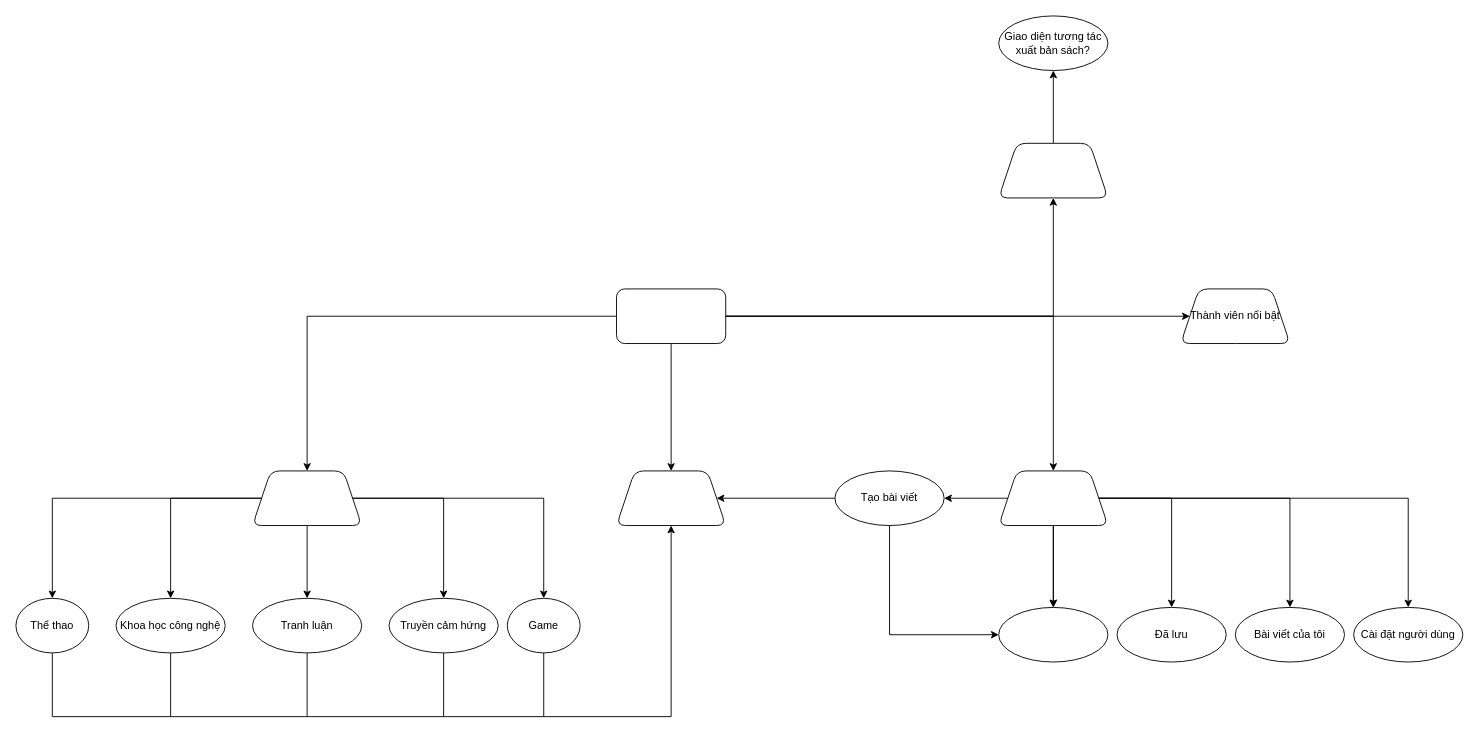
Image size: 1479x740. Some labels were removed from this diagram. Each missing label, with the centre of its shape:
"Bài viết" goes at (671,498).
"Bài viết nháp" goes at (1053,634).
"Danh mục" goes at (307,498).
"Home" goes at (671,316).
"Người dùng" goes at (1053,498).
"Xuất bản sách" goes at (1053,170).
